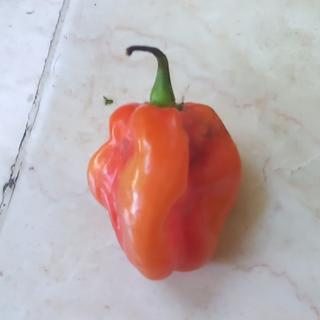Grade-A: (93, 96, 246, 286)
